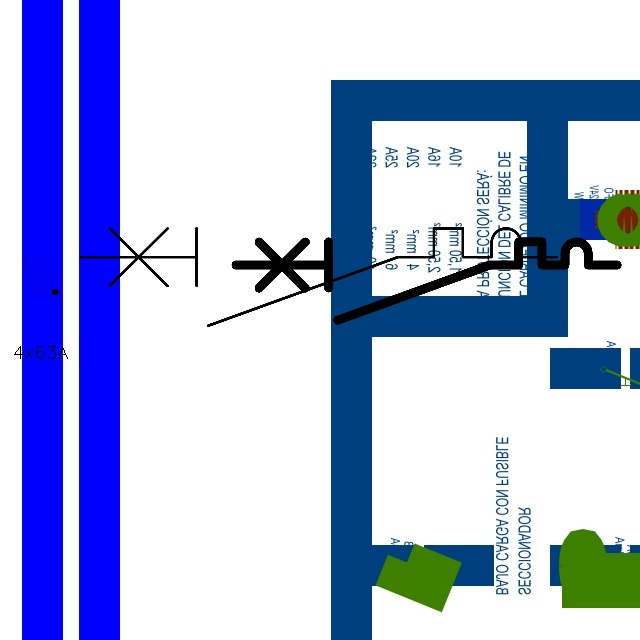interruptor_termomagnetico: (68, 216, 568, 338), (226, 232, 627, 330)
